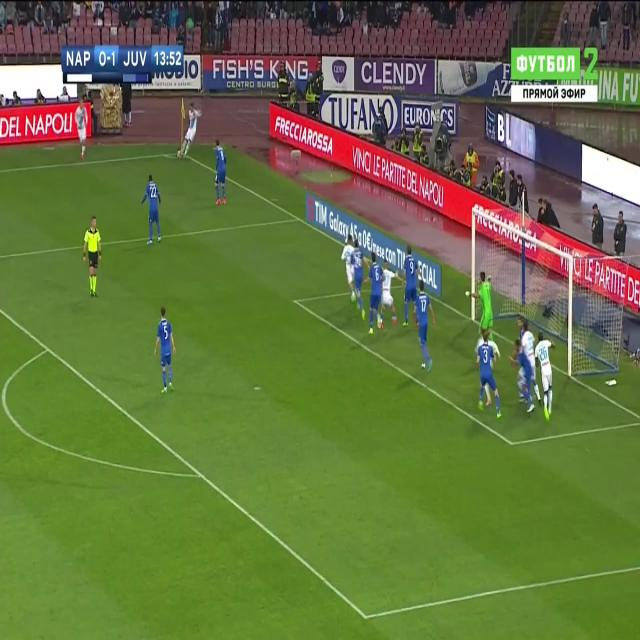Ball: (176, 149, 182, 160)
Goalkeeper: (466, 269, 496, 341)
Player: (414, 280, 438, 376), (477, 331, 502, 420), (509, 338, 537, 414), (153, 305, 176, 396), (536, 329, 558, 420), (141, 171, 164, 246), (349, 239, 368, 324), (366, 245, 384, 334), (381, 257, 401, 334), (402, 244, 419, 332), (181, 101, 204, 162), (519, 314, 538, 375), (213, 138, 229, 210), (341, 234, 356, 307), (74, 100, 89, 164)
Referee: (81, 213, 104, 300)
